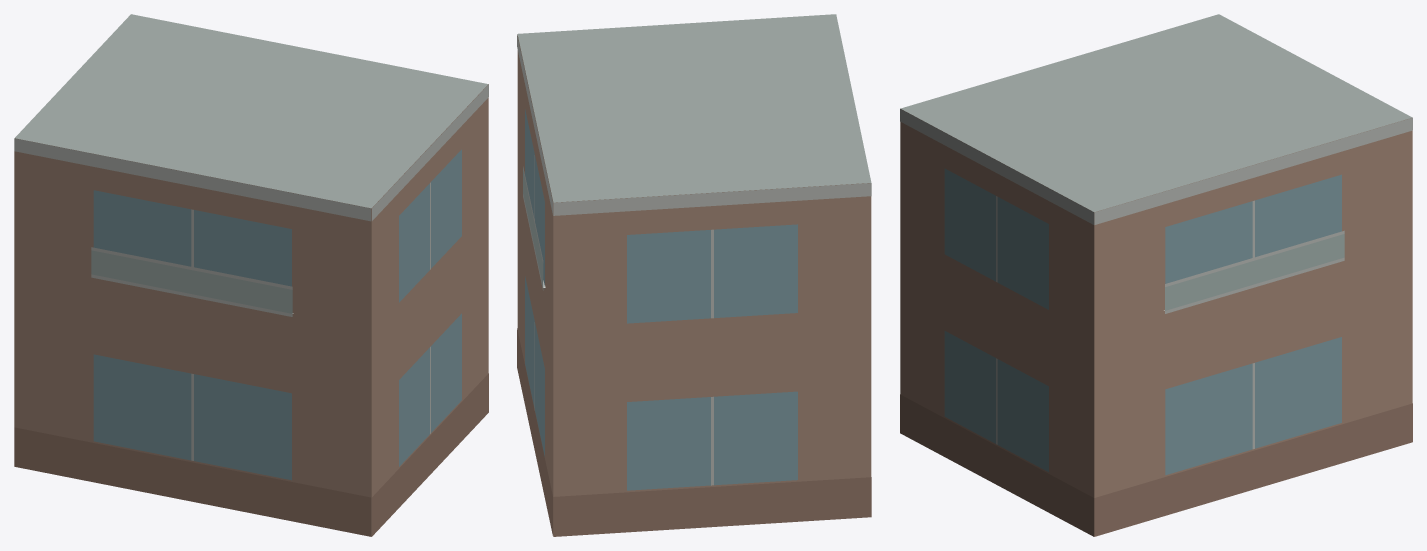
The model's file is survey-upis-32616675.glb.
3 renders of one model, left to right at view 1: azimuth 30°, elevation 25°; view 2: azimuth 150°, elevation 25°; view 3: azimuth 270°, elevation 25°, orthographic. The views are drawn at different scales.
Parts seen in each view (by area): view 1: survey-upis-32616675.tmp; view 2: survey-upis-32616675.tmp; view 3: survey-upis-32616675.tmp.
Boxes of the visible parts, <box> form: survey-upis-32616675.tmp: <box>14,14,488,536</box>; survey-upis-32616675.tmp: <box>517,14,871,536</box>; survey-upis-32616675.tmp: <box>900,14,1412,536</box>.
Bounding box in the file's own units: 8 × 6.1 × 8.74.
